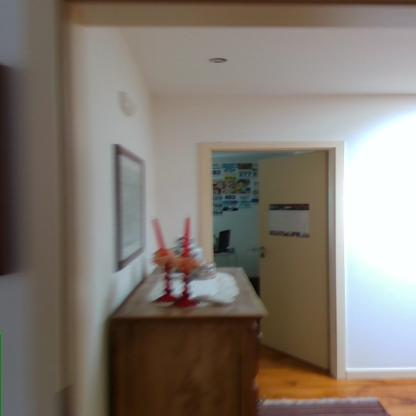semi: (178, 136, 344, 361)
